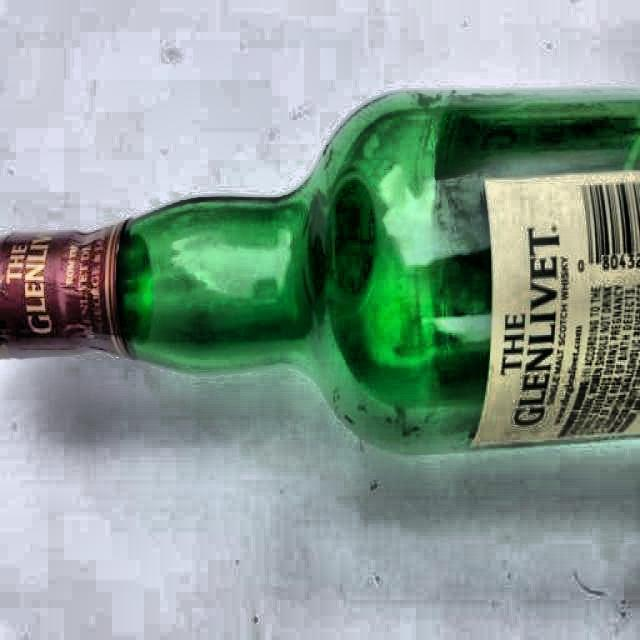glass: (0, 88, 640, 459)
